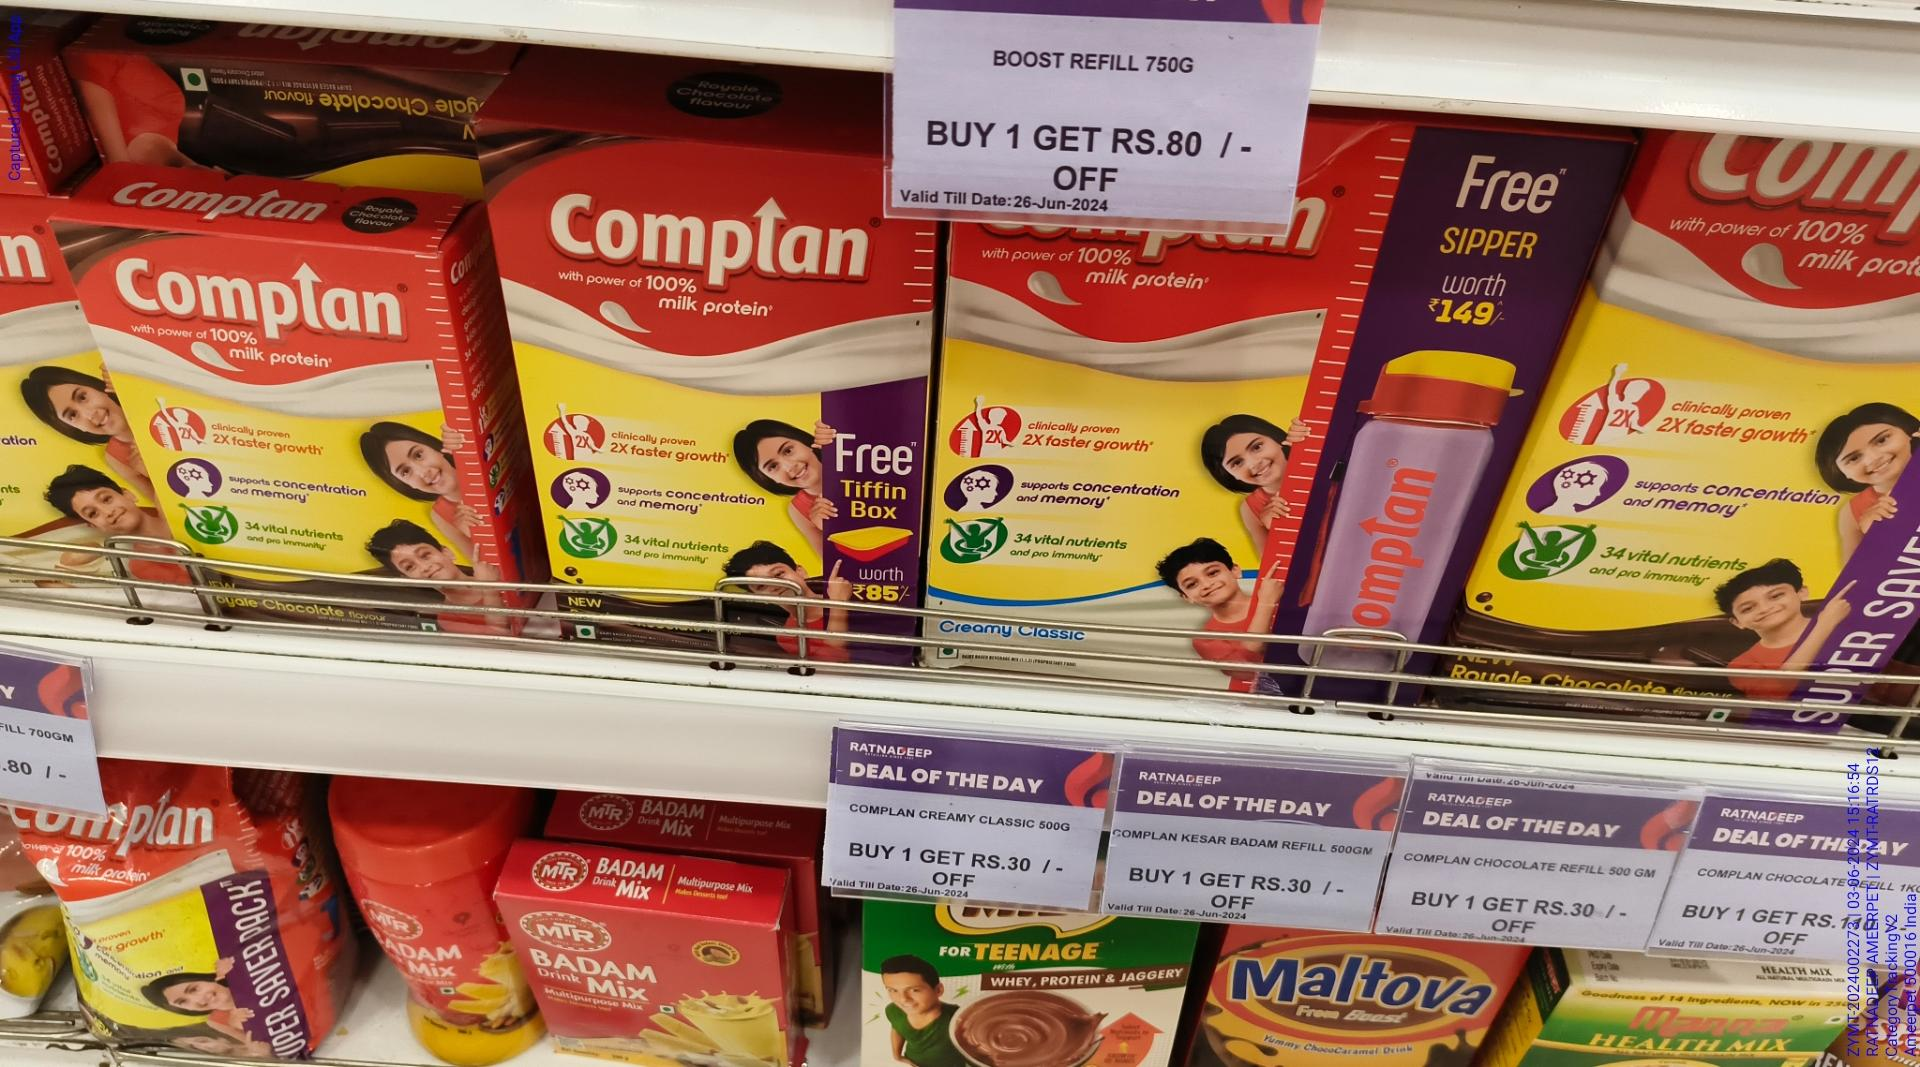COMPLAN_CHOCOLATE_1_KG_PACK: (1506, 134, 1920, 748)
COMPLAN_CHOCOLATE_200_GMS_PACK: (89, 226, 482, 637)
COMPLAN_CHOCOLATE_500_GMS_PACK: (510, 139, 922, 665)
COMPLAN_RC_POUCH_700_GMS_12: (29, 803, 306, 1067)
